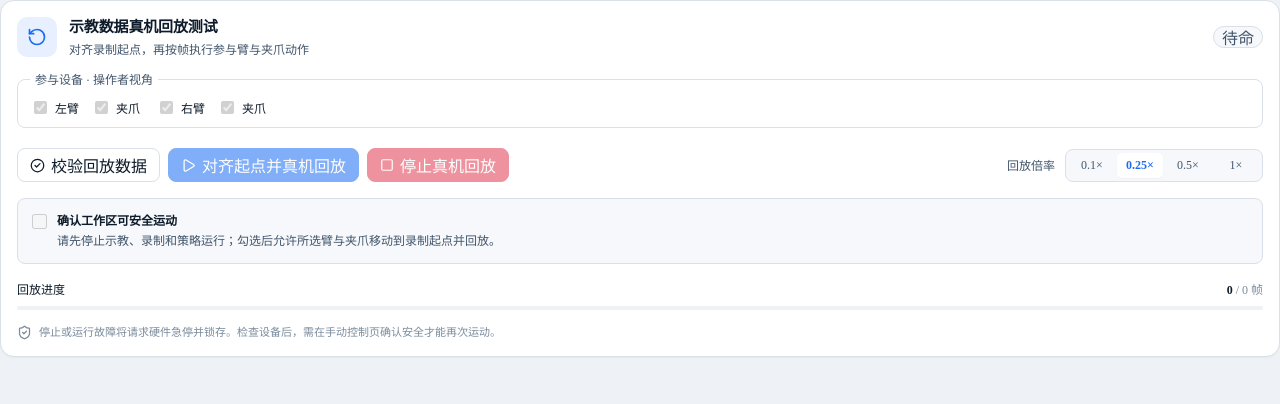
DatasetReplayPanel › requires validation and explicit motion confirmation before start
Expected: the button "对齐起点并真机回放" is disabled, [168, 148, 359, 182]
Click the button "校验回放数据": {"x": 88, "y": 165} [17, 148, 160, 182]
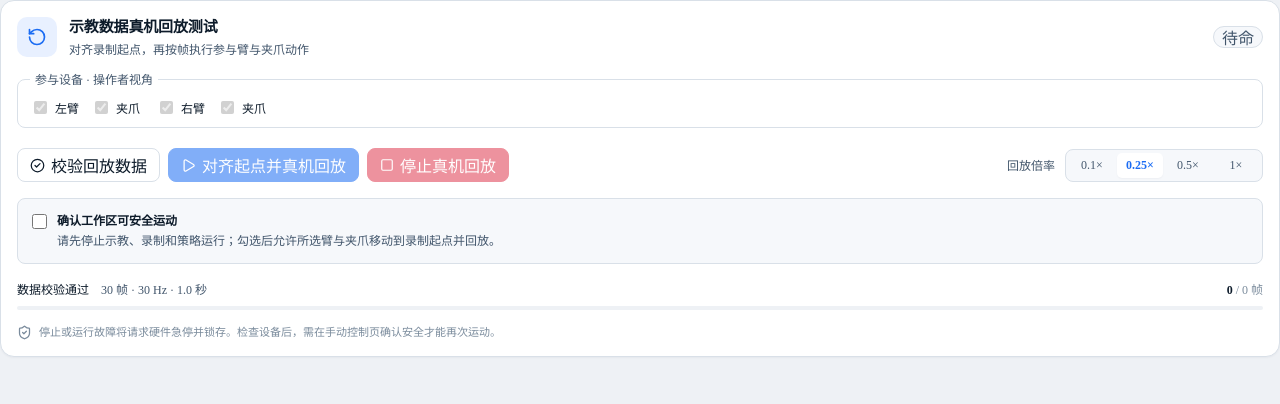
Expected: the button "对齐起点并真机回放" is disabled, [168, 148, 359, 182]
Expected: the text "30 帧 · 30 Hz · 1.0 秒" is shown, [101, 283, 207, 297]
Click the checkbox labelled "确认工作区可安全运动 请先停止示教、录制和策略运行；勾选后允许所选臂与夹爪移动到录制起点并回放。": {"x": 40, "y": 222} [32, 214, 47, 229]
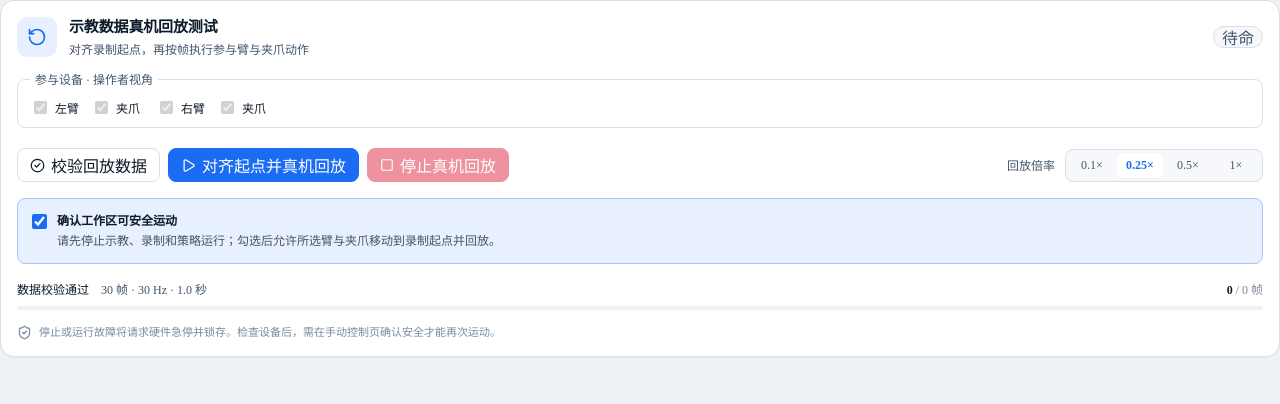
Click the button "对齐起点并真机回放": {"x": 264, "y": 165} [168, 148, 359, 182]
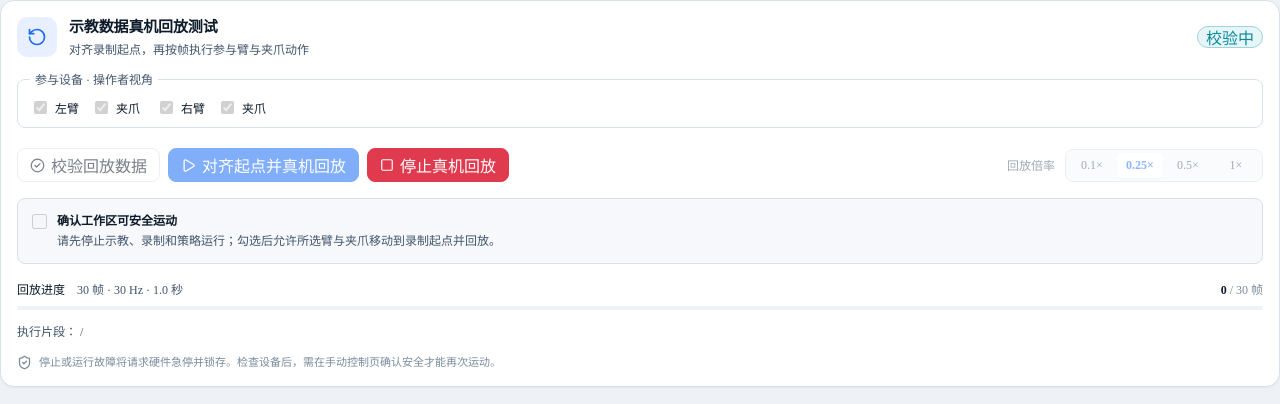
Expected: the button "停止真机回放" is enabled, [367, 148, 509, 182]
